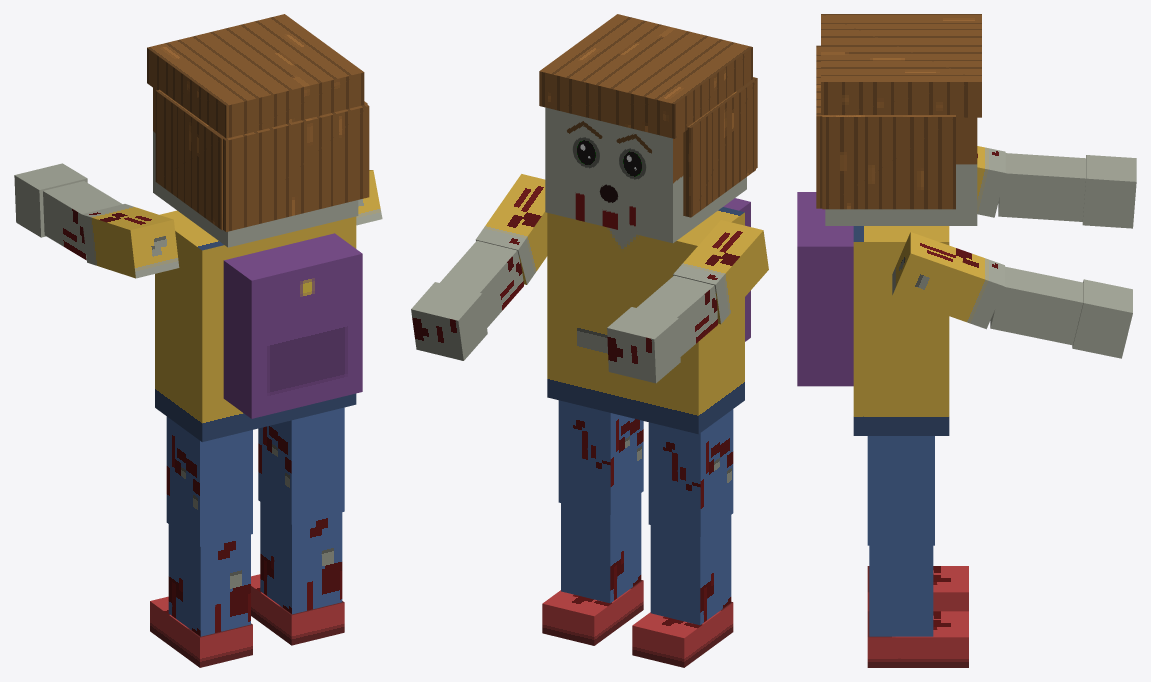
File: mon_zombie_child.glb
3 renders of one model, left to right at view 1: azimuth 30°, elevation 25°; view 2: azimuth 150°, elevation 25°; view 3: azimuth 270°, elevation 25°, orthographic. The views are drawn at different scales.
Parts seen in each view (by area): view 1: block_backpack, block_hair-cap, block_torso, block_hair-bob, block_thigh.L, block_thigh.R, block_shin.L, block_shin.R, block_hair-side, block_upper_arm.L, block_head, block_foot.L (+4 smaller); view 2: block_torso, block_hair-cap, block_head, block_thigh.L, block_thigh.R, block_shin.L, block_shin.R, block_hair-side, block_upper_arm.L, block_hand.R, block_hand.L, block_upper_arm.R (+5 smaller); view 3: block_torso, block_hair-cap, block_hair-side, block_backpack, block_thigh.R, block_upper_arm.R, block_shin.R, block_forearm.L, block_forearm.R, block_head, block_foot.R, block_hand.L (+4 smaller).
Part boxes in pixels (x1=…): block_backpack: x1=223, y1=233, x2=362, y2=418; block_hair-cap: x1=147, y1=14, x2=364, y2=138; block_torso: x1=155, y1=210, x2=356, y2=441; block_hair-bob: x1=207, y1=102, x2=369, y2=231; block_thigh.L: x1=166, y1=416, x2=252, y2=546; block_thigh.R: x1=258, y1=407, x2=344, y2=524; block_shin.L: x1=168, y1=524, x2=250, y2=636; block_shin.R: x1=260, y1=502, x2=342, y2=614; block_hair-side: x1=155, y1=89, x2=222, y2=229; block_upper_arm.L: x1=81, y1=204, x2=179, y2=278; block_head: x1=153, y1=88, x2=358, y2=247; block_foot.L: x1=150, y1=596, x2=252, y2=667; block_torso: x1=547, y1=207, x2=744, y2=434; block_hair-cap: x1=539, y1=14, x2=752, y2=138; block_head: x1=545, y1=107, x2=746, y2=243; block_thigh.L: x1=648, y1=409, x2=733, y2=536; block_thigh.R: x1=558, y1=400, x2=643, y2=514; block_shin.L: x1=650, y1=515, x2=731, y2=625; block_shin.R: x1=561, y1=493, x2=641, y2=603; block_hair-side: x1=683, y1=80, x2=755, y2=217; block_upper_arm.L: x1=673, y1=220, x2=768, y2=324; block_hand.R: x1=411, y1=282, x2=487, y2=360; block_hand.L: x1=607, y1=307, x2=680, y2=383; block_upper_arm.R: x1=475, y1=174, x2=547, y2=284; block_torso: x1=853, y1=226, x2=949, y2=435; block_hair-cap: x1=821, y1=14, x2=981, y2=117; block_hair-side: x1=822, y1=115, x2=955, y2=209; block_backpack: x1=797, y1=192, x2=853, y2=386; block_thigh.R: x1=867, y1=436, x2=934, y2=545; block_upper_arm.R: x1=892, y1=232, x2=1004, y2=329; block_shin.R: x1=869, y1=545, x2=933, y2=636; block_forearm.L: x1=998, y1=153, x2=1085, y2=221; block_forearm.R: x1=990, y1=266, x2=1083, y2=345; block_head: x1=825, y1=117, x2=977, y2=225; block_foot.R: x1=867, y1=611, x2=968, y2=667; block_hand.L: x1=1082, y1=155, x2=1136, y2=228.
Size of the model in its own units: 0.518 by 1.15 by 0.6033.
1 material, 1 textured.
